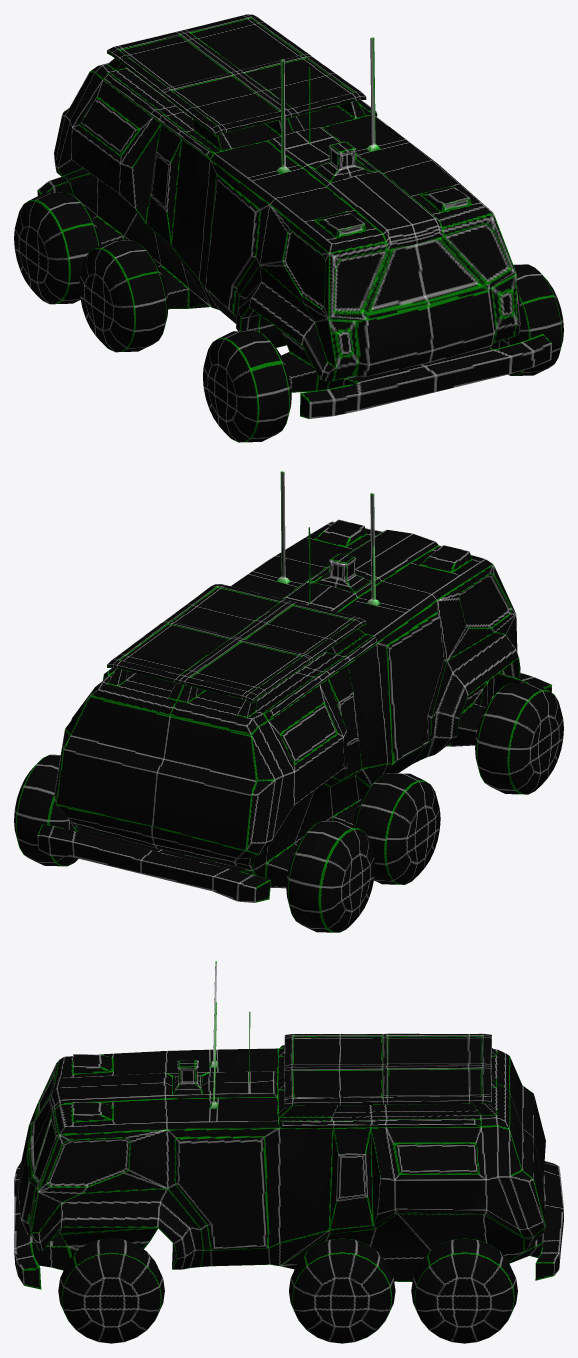
File: Rover_Scout.FBX
The picture shows the model from 3 angles, top to bottom: view 1: azimuth 30°, elevation 25°; view 2: azimuth 150°, elevation 25°; view 3: azimuth 270°, elevation 25°; orthographic projection. The views are drawn at different scales.
Visible parts, largest first — view 1: body, wheel_back1_R, wheel_front_R, wheel_back2_R, wheel_front_L; view 2: body, wheel_back2_R, wheel_front_R, wheel_back1_R, wheel_back2_L; view 3: body, wheel_back2_L, wheel_front_L, wheel_back1_L.
Boxes of the visible parts, x1,y1,x2,y2 form: body: (37, 14, 551, 418); wheel_back1_R: (79, 240, 168, 352); wheel_front_R: (203, 330, 291, 442); wheel_back2_R: (14, 192, 101, 304); wheel_front_L: (490, 264, 563, 375); body: (37, 471, 551, 902); wheel_back2_R: (286, 821, 374, 932); wheel_front_R: (475, 683, 563, 794); wheel_back1_R: (353, 773, 440, 884); wheel_back2_L: (14, 754, 78, 866); body: (14, 961, 563, 1289); wheel_back2_L: (411, 1238, 517, 1343); wheel_front_L: (58, 1238, 164, 1343); wheel_back1_L: (289, 1238, 395, 1343).
Bounding box in the file's own units: 4.79 × 7.53 × 4.46.
